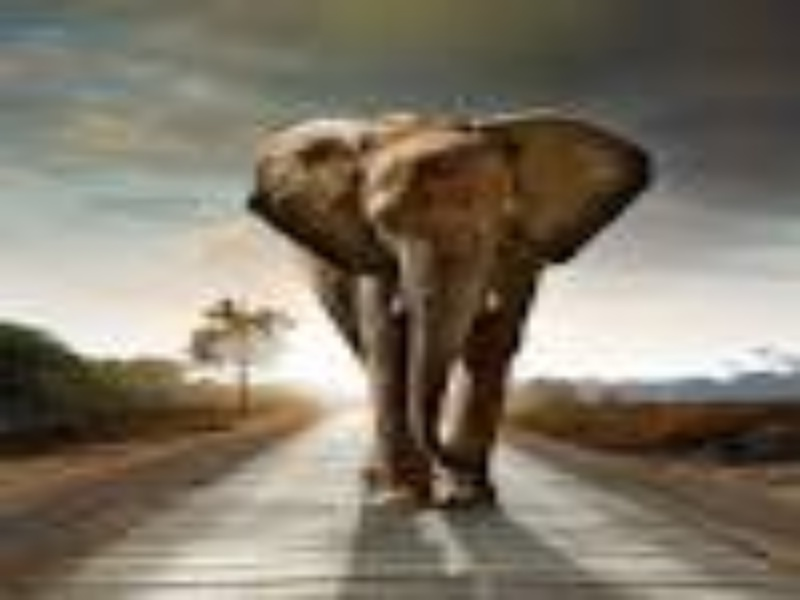elephant: (236, 92, 671, 518)
